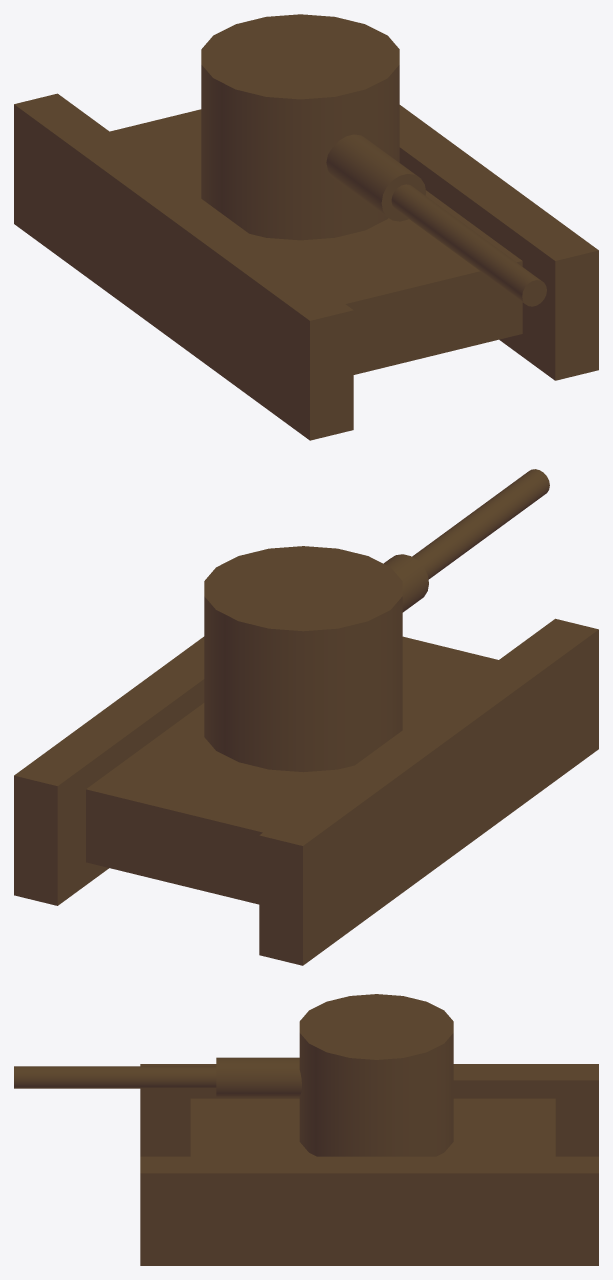
File: Tank.FBX
3 views of the same model, one above another, from view 1: azimuth 30°, elevation 25°; view 2: azimuth 150°, elevation 25°; view 3: azimuth 270°, elevation 25° (orthographic). The views are drawn at different scales.
Parts seen in each view (by area): view 1: Box003, Cylinder001, Box001, Box002, Cylinder003, Cylinder002; view 2: Box003, Cylinder001, Box001, Box002, Cylinder003, Cylinder002; view 3: Box002, Cylinder001, Box001, Box003, Cylinder003, Cylinder002.
Boxes of the visible parts, x1,y1,x2,y2 form: Box003: (14, 93, 353, 440); Cylinder001: (201, 14, 399, 240); Box001: (110, 109, 522, 374); Box002: (399, 105, 598, 380); Cylinder003: (391, 184, 546, 306); Cylinder002: (326, 134, 426, 221); Box003: (259, 618, 598, 965); Cylinder001: (204, 546, 402, 772); Box001: (86, 636, 498, 904); Box002: (14, 636, 204, 905); Cylinder003: (412, 469, 549, 579); Cylinder002: (383, 554, 428, 612); Box002: (140, 1156, 598, 1265); Cylinder001: (299, 994, 453, 1156); Box001: (190, 1098, 555, 1156); Box003: (140, 1064, 598, 1156); Cylinder003: (14, 1066, 216, 1088); Cylinder002: (216, 1057, 301, 1097).
Size of the model in its own units: 27.85 by 21.86 by 63.04.
